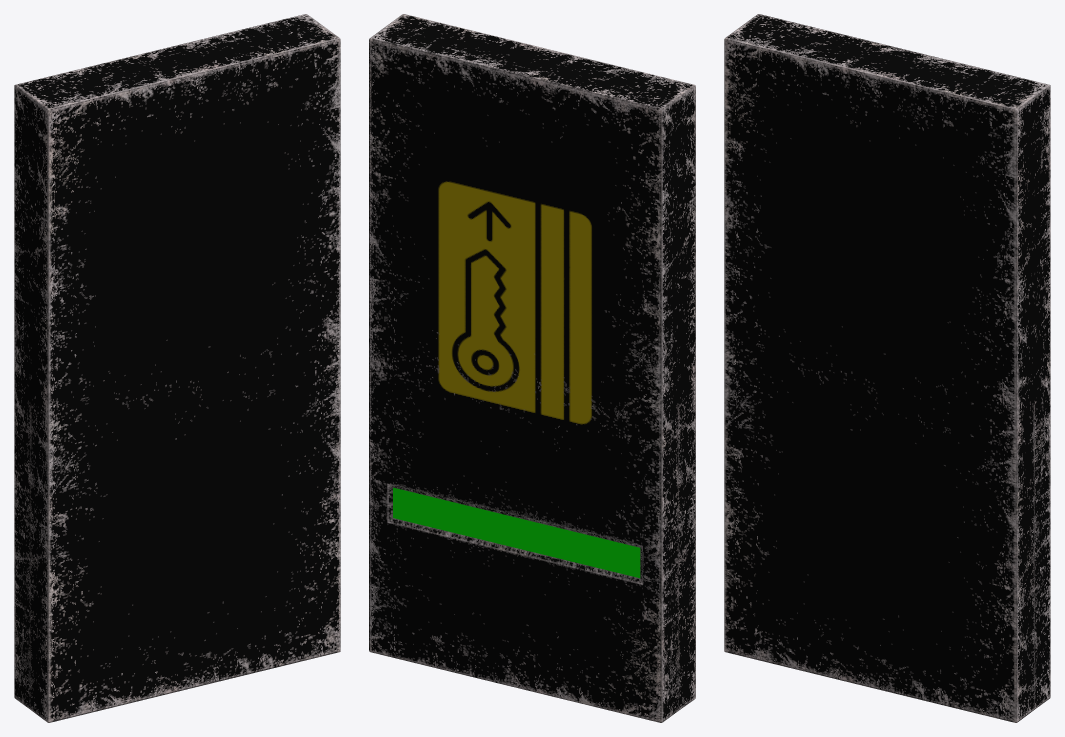
The model's file is DoorLock_Panel.obj.
3 views of the same model, side by side, from view 1: azimuth 30°, elevation 25°; view 2: azimuth 150°, elevation 25°; view 3: azimuth 330°, elevation 25° (orthographic).
Visible parts, largest first — view 1: DoorLock_Housing; view 2: DoorLock_Housing, DoorLock_GreenIndicator; view 3: DoorLock_Housing.
Boxes of the visible parts, x1=… form: DoorLock_Housing: x1=14, y1=14, x2=340, y2=722; DoorLock_Housing: x1=369, y1=14, x2=695, y2=722; DoorLock_GreenIndicator: x1=393, y1=487, x2=640, y2=578; DoorLock_Housing: x1=724, y1=14, x2=1050, y2=722.
Size of the model in its own units: 0.9996 by 2 by 0.2045.
Materials: 2 (1 with a texture image).
